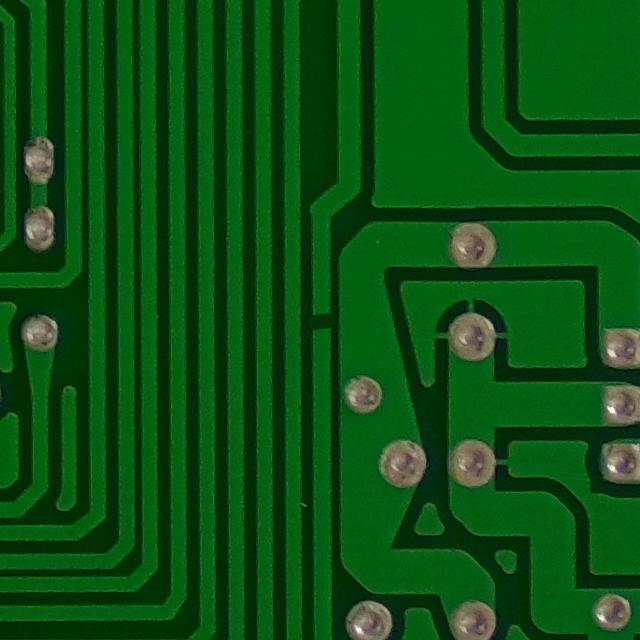open_circuit: (305, 303, 335, 337)
